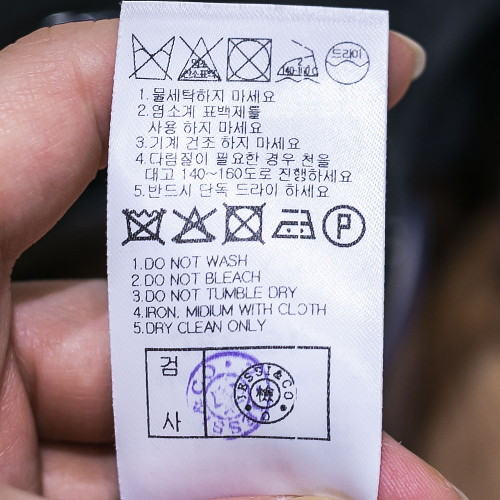ER_dry_clean_chemical: (320, 202, 368, 250)
ER_iron_medium_temp: (272, 201, 317, 244)
ER_no_bleach: (171, 204, 216, 246)
ER_no_tumble_dry: (220, 196, 268, 248)
ER_no_wash: (122, 204, 167, 247)
KR_dry_clean_petroleum: (324, 39, 372, 90)
KR_iron_medium_temp_with_cloth: (274, 39, 321, 85)
KR_no_bleach: (178, 35, 223, 85)
KR_no_tumble_dry: (225, 34, 275, 83)
KR_no_wash: (129, 31, 176, 84)
